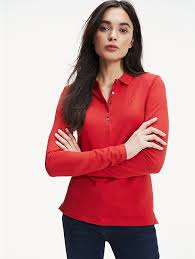C_polo shirt: (46, 68, 179, 224)
